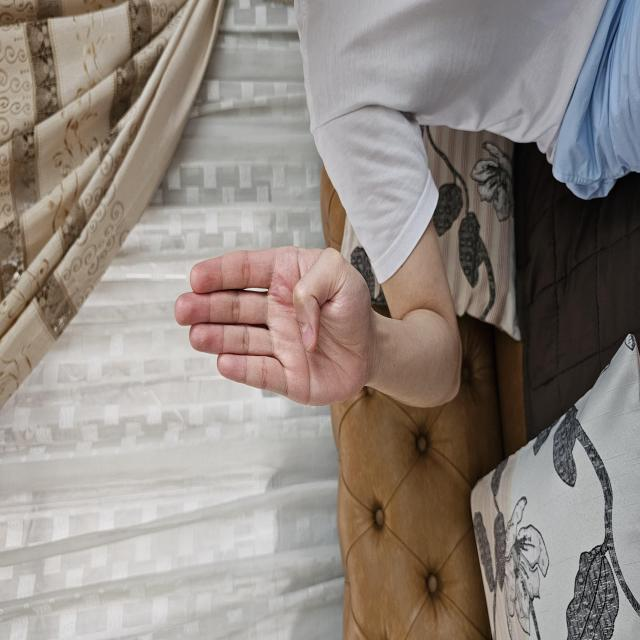B: (232, 172, 396, 374)
